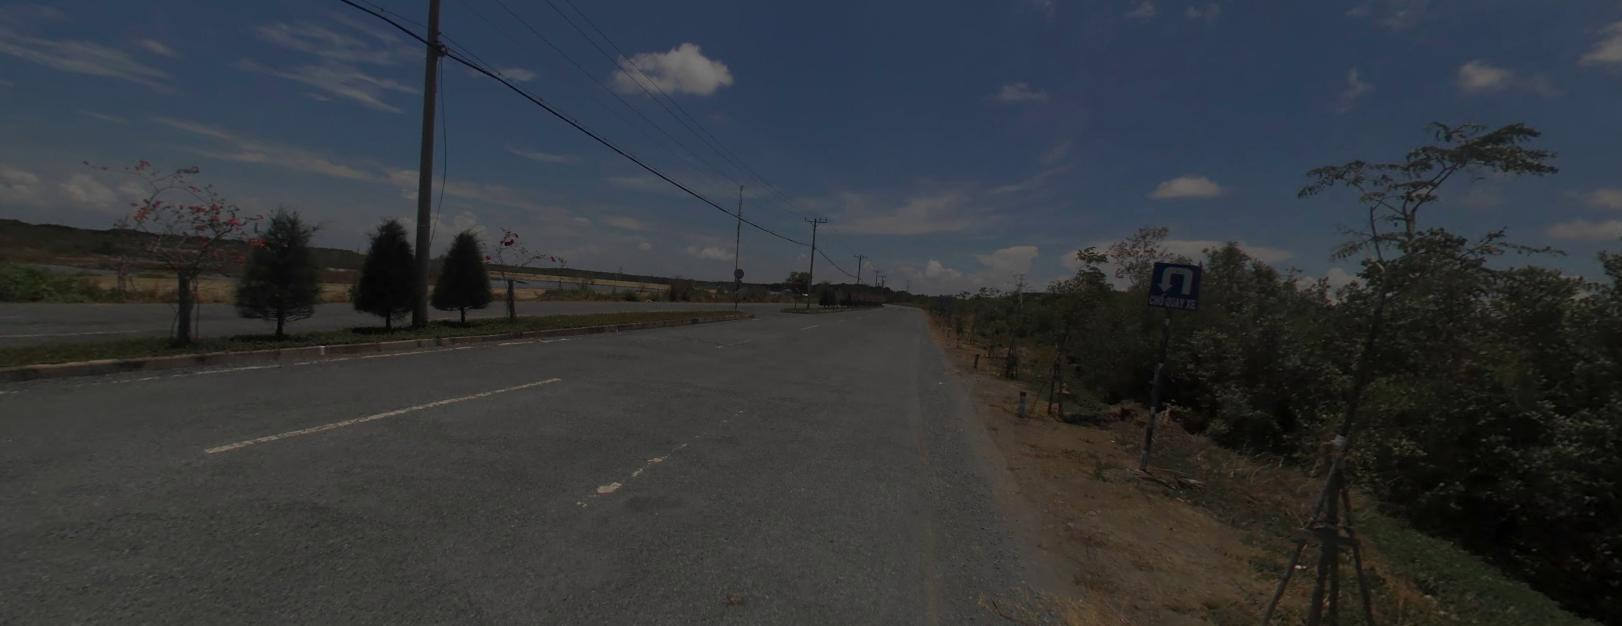Cam nguoc chieu: (794, 277, 801, 284)
Hieu lenh: (795, 285, 801, 291)
